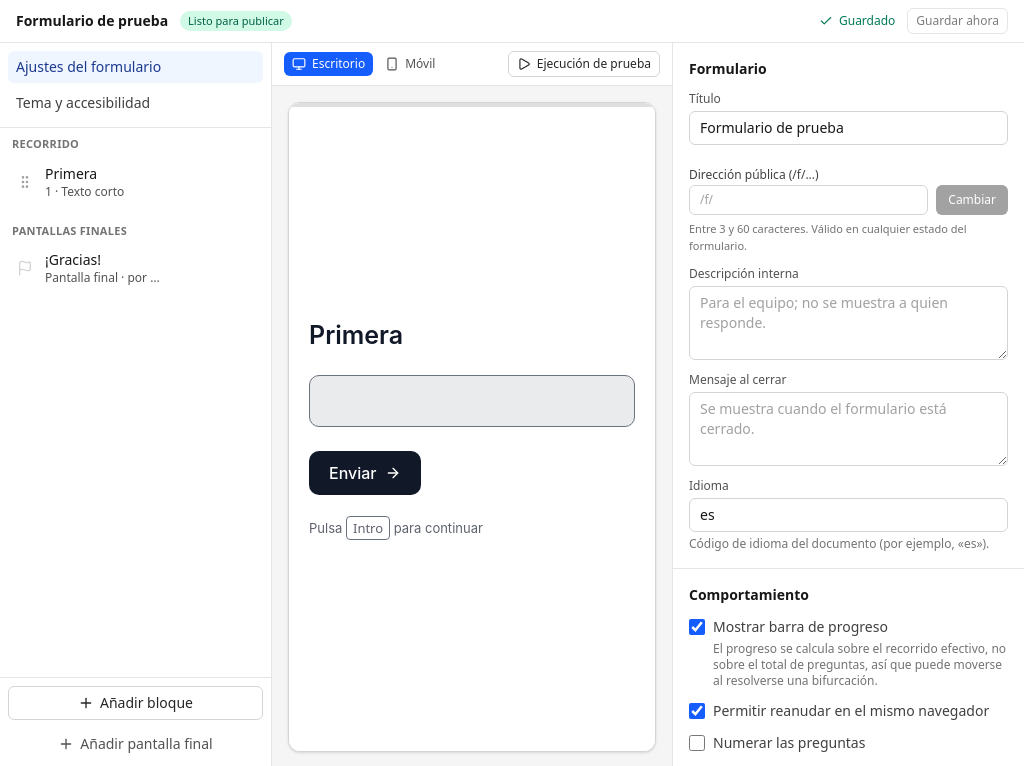
Test case: construir un formulario › cambiar el tipo conserva el título y el identificador
Click the button "Primera 1 · Texto corto": click(88, 182) [41,162,134,202]
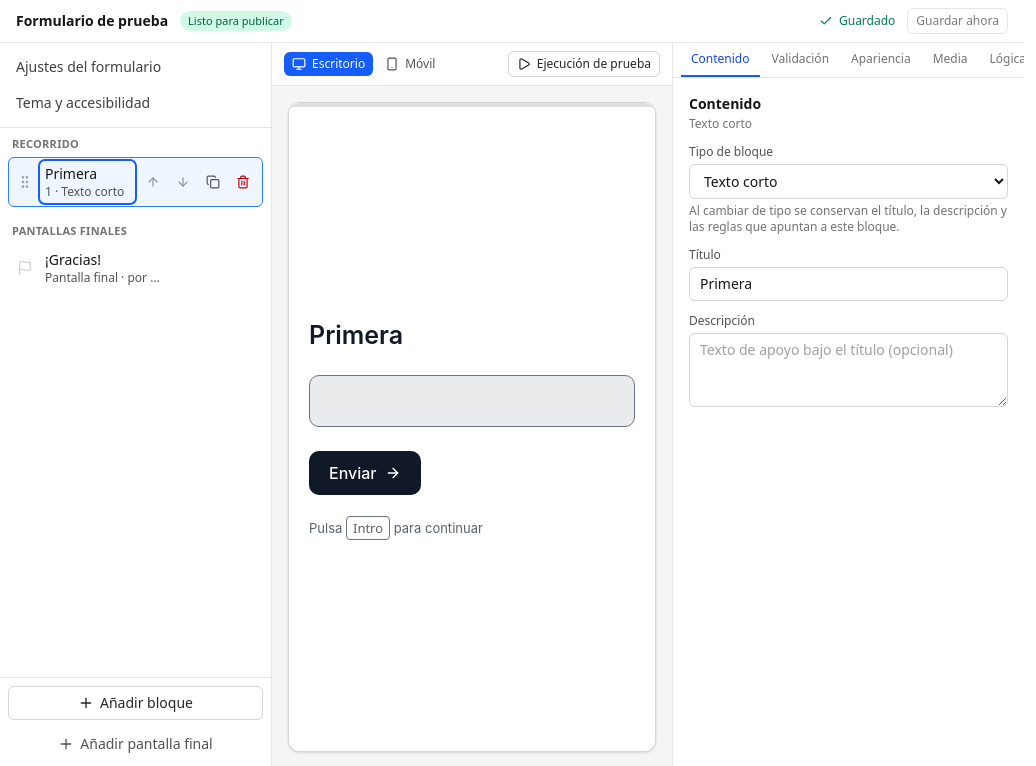
Select "Valoración visual" in the dropdown labelled "Tipo de bloque": (848, 182) [689,164,1008,199]
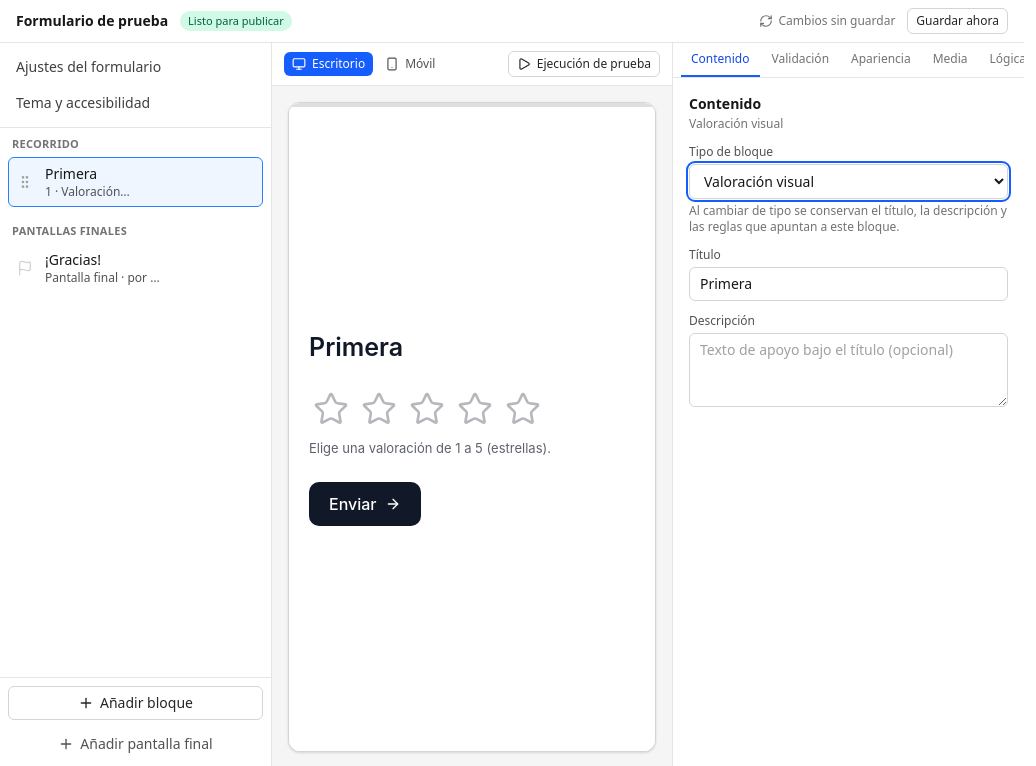
expect the text "Primera" is shown: met, box [45,164,97,184]
expect the text "1 · Valoración visual" is shown: met, box [45,184,130,200]
